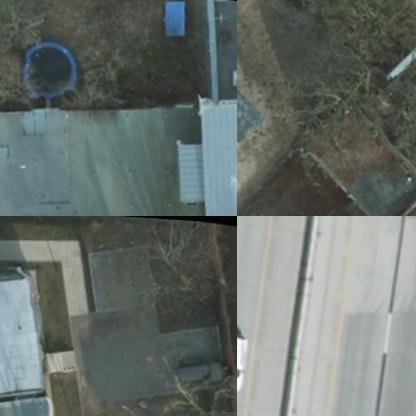car: (172, 353, 224, 388), (237, 327, 251, 396)
